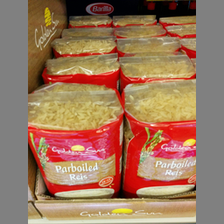rice: (29, 84, 124, 197), (122, 80, 197, 197)
